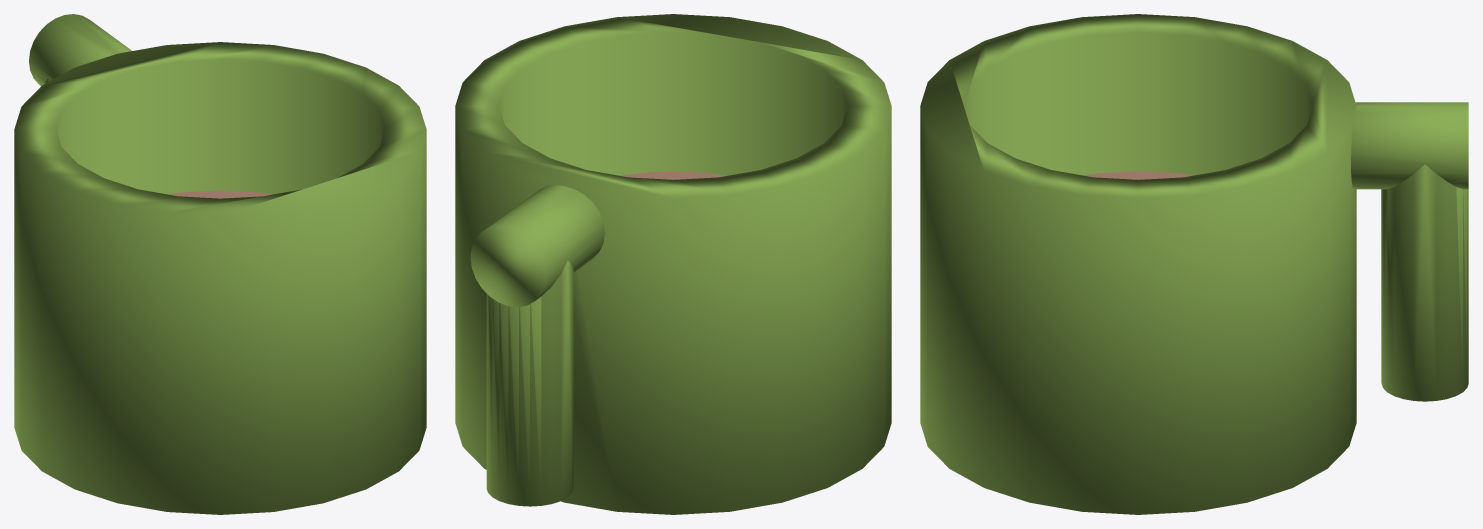
3 renders of one model, left to right at view 1: azimuth 30°, elevation 25°; view 2: azimuth 150°, elevation 25°; view 3: azimuth 270°, elevation 25°, orthographic. The views are drawn at different scales.
Parts seen in each view (by area): view 1: mesh1_mesh1-geometry, mesh2_mesh2-geometry, mesh3_mesh3-geometry; view 2: mesh1_mesh1-geometry, mesh2_mesh2-geometry, mesh3_mesh3-geometry; view 3: mesh1_mesh1-geometry, mesh2_mesh2-geometry, mesh3_mesh3-geometry.
Part boxes in pixels (x1,y1,x2,y2): mesh1_mesh1-geometry: (14,42,426,514); mesh2_mesh2-geometry: (29,14,131,85); mesh3_mesh3-geometry: (168,190,272,198); mesh1_mesh1-geometry: (455,14,891,514); mesh2_mesh2-geometry: (470,184,604,506); mesh3_mesh3-geometry: (620,172,727,179); mesh1_mesh1-geometry: (920,14,1356,514); mesh2_mesh2-geometry: (1351,102,1468,401); mesh3_mesh3-geometry: (1083,171,1193,179).
Bounding box in the file's own units: 0.5573 × 0.4459 × 0.7004.
